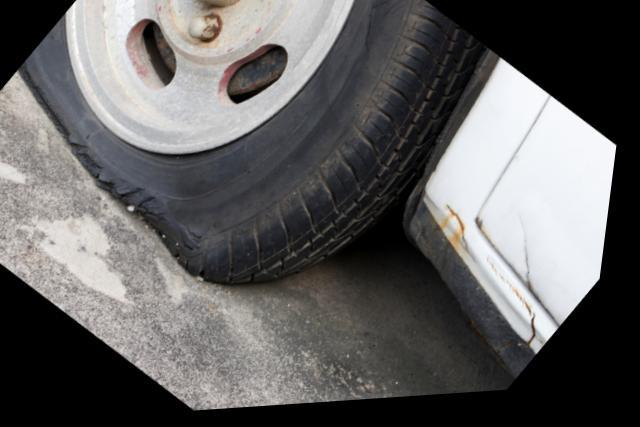tire flat: (21, 0, 486, 288)
